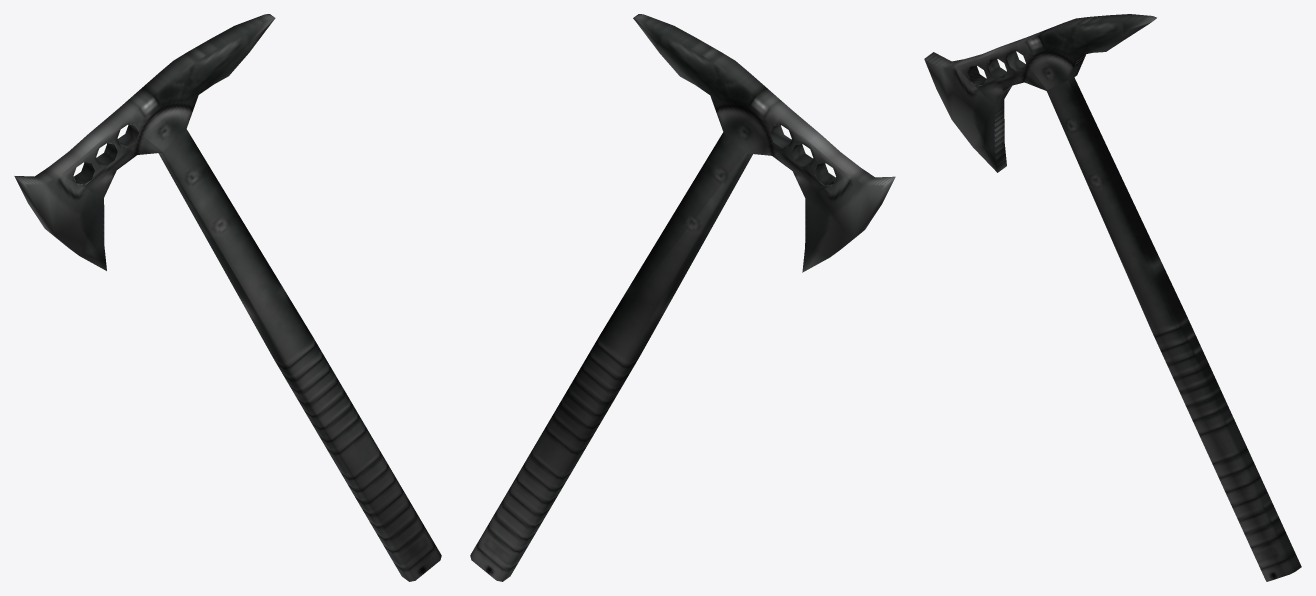
File: tomahawk.FBX
The picture shows the model from 3 angles, left to right: view 1: azimuth 30°, elevation 25°; view 2: azimuth 150°, elevation 25°; view 3: azimuth 330°, elevation 25°; orthographic projection. The views are drawn at different scales.
Visible parts, largest first — view 1: tomahawk; view 2: tomahawk; view 3: tomahawk.
Part boxes in pixels (left/top/right/bottom): tomahawk: left=14, top=14, right=441, bottom=581; tomahawk: left=470, top=14, right=895, bottom=581; tomahawk: left=924, top=14, right=1301, bottom=581.
Bounding box in the file's own units: 44.16 × 60.23 × 2.51.
